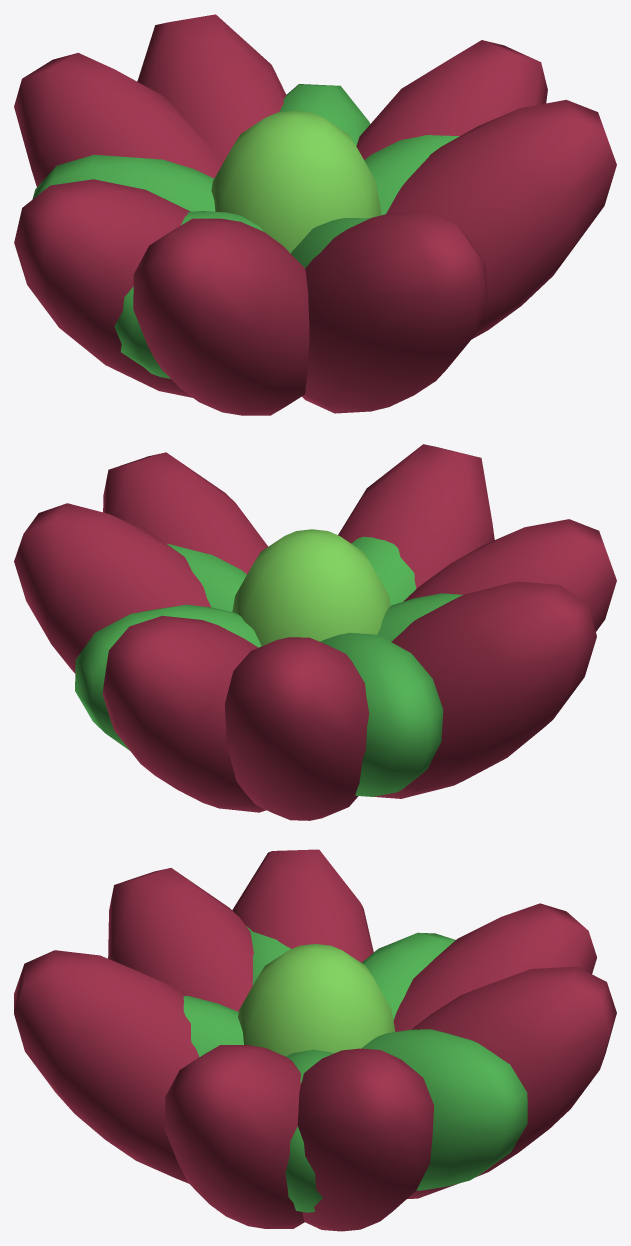
Rendered from lettuce-plant.glb.
3 renders of one model, top to bottom at view 1: azimuth 30°, elevation 25°; view 2: azimuth 150°, elevation 25°; view 3: azimuth 270°, elevation 25°, orthographic. The views are drawn at different scales.
Parts seen in each view (by area): view 1: _leaf-holder-leaf-red-romaine (×7), heart-leaf-light, _leaf-holder-leaf (×5); view 2: _leaf-holder-leaf-red-romaine (×7), _leaf-holder-leaf (×5), heart-leaf-light; view 3: _leaf-holder-leaf-red-romaine (×7), _leaf-holder-leaf (×5), heart-leaf-light.
Part boxes in pixels (x1,y1,x2,y2): _leaf-holder-leaf-red-romaine (×7): [14, 14, 616, 415]; heart-leaf-light: [211, 110, 380, 253]; _leaf-holder-leaf (×5): [32, 84, 459, 378]; _leaf-holder-leaf-red-romaine (×7): [14, 444, 616, 820]; _leaf-holder-leaf (×5): [75, 536, 462, 796]; heart-leaf-light: [232, 529, 390, 645]; _leaf-holder-leaf-red-romaine (×7): [14, 849, 616, 1231]; _leaf-holder-leaf (×5): [183, 926, 527, 1212]; heart-leaf-light: [238, 944, 395, 1056].
Bounding box in the file's own units: 0.4373 × 0.1905 × 0.4384.
